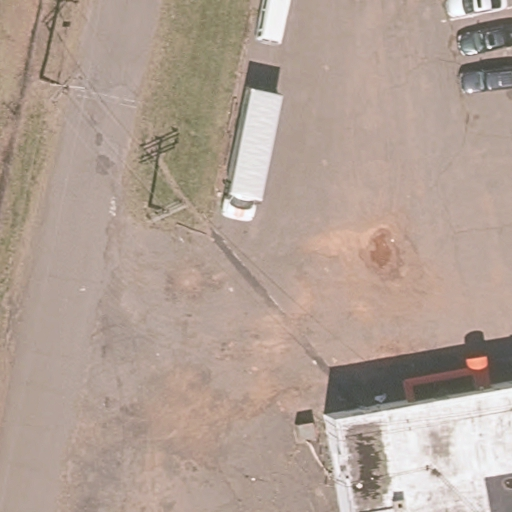DT: (42, 76, 87, 103), (147, 200, 187, 226)
